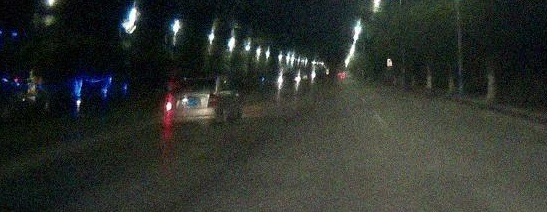L_light: (165, 98, 174, 111)
R_light: (206, 94, 219, 108)
T_light: (192, 79, 203, 81)
night-left: (163, 76, 220, 129)
